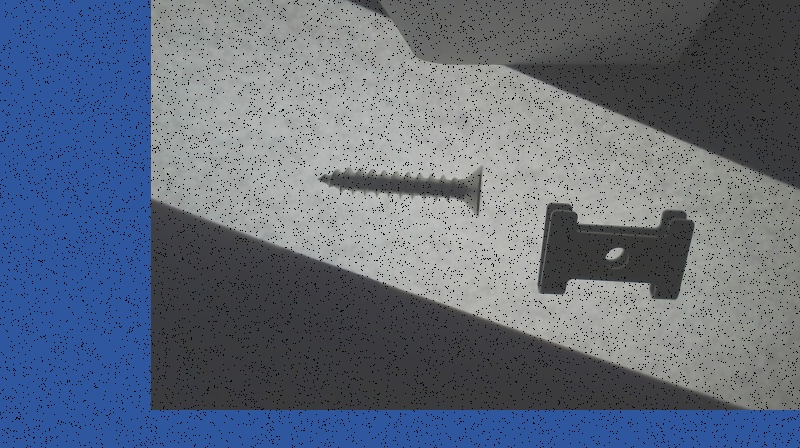O002: (529, 201, 696, 297)
S001: (315, 164, 485, 217)
